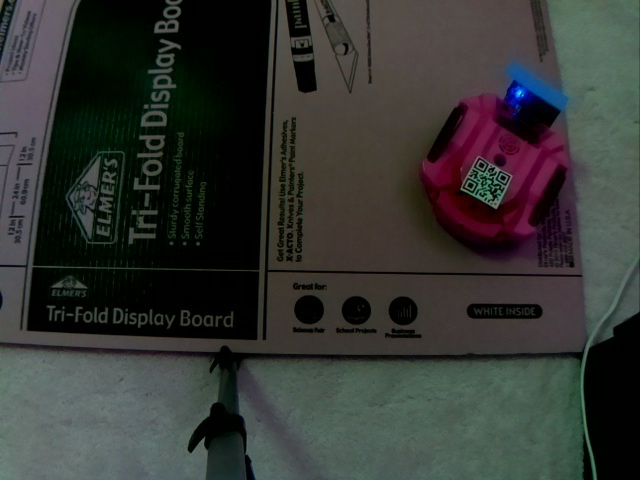chassis: (418, 62, 570, 249)
qr: (457, 154, 514, 211)
